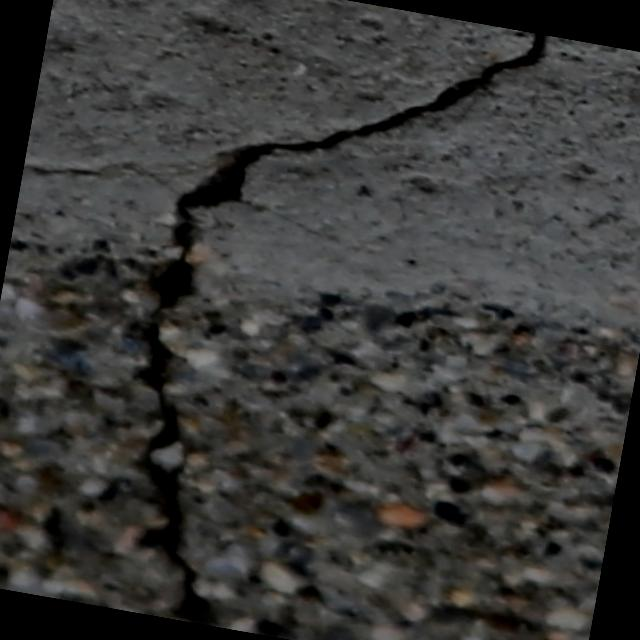crack: (92, 122, 292, 625), (289, 0, 550, 198)
spall: (0, 213, 640, 640)
